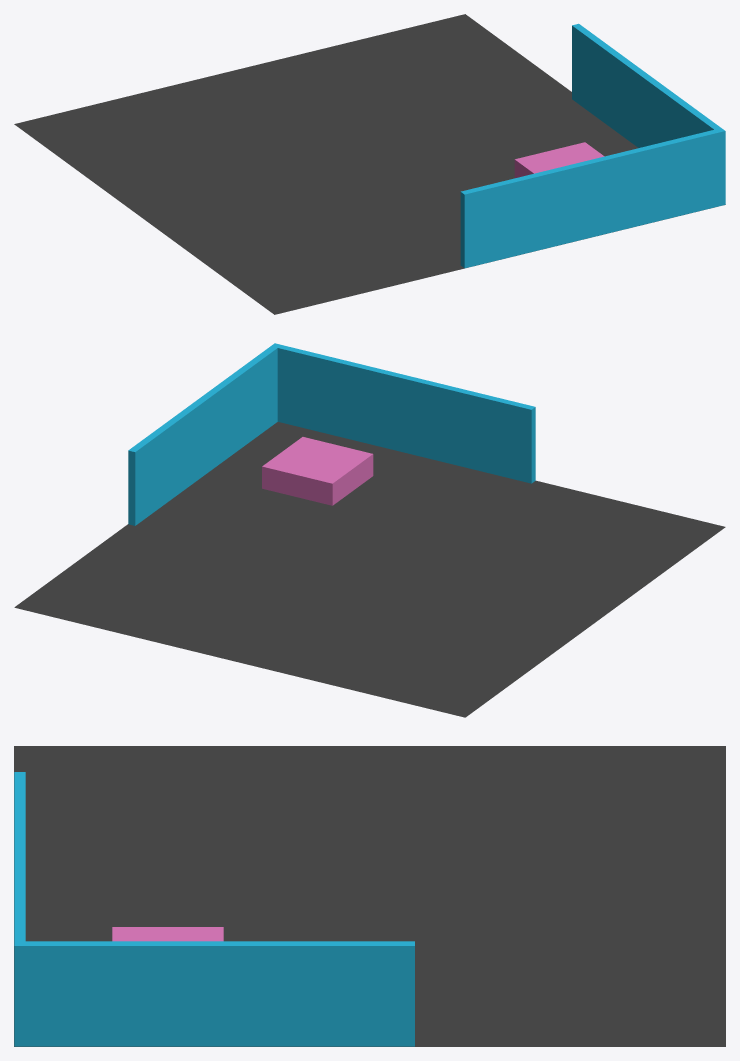
File: test_room.glb
3 views of the same model, one above another, from view 1: azimuth 30°, elevation 25°; view 2: azimuth 150°, elevation 25°; view 3: azimuth 270°, elevation 25° (orthographic). The views are drawn at different scales.
Visible parts, largest first — view 1: ground, Cube.001, Cube, Cube.002; view 2: ground, Cube.001, Cube, Cube.002; view 3: ground, Cube, Cube.001, Cube.002.
Part boxes in pixels (x1,y1,x2,y2): ground: (14, 14, 725, 314); Cube.001: (460, 129, 718, 268); Cube: (572, 23, 725, 206); Cube.002: (514, 142, 604, 178); ground: (14, 422, 725, 717); Cube.001: (277, 345, 535, 483); Cube: (128, 343, 281, 525); Cube.002: (262, 437, 373, 505); ground: (14, 746, 725, 1046); Cube: (14, 941, 414, 1046); Cube.001: (14, 772, 25, 941); Cube.002: (112, 927, 223, 941).
Size of the model in its own units: 64 by 10 by 64.
